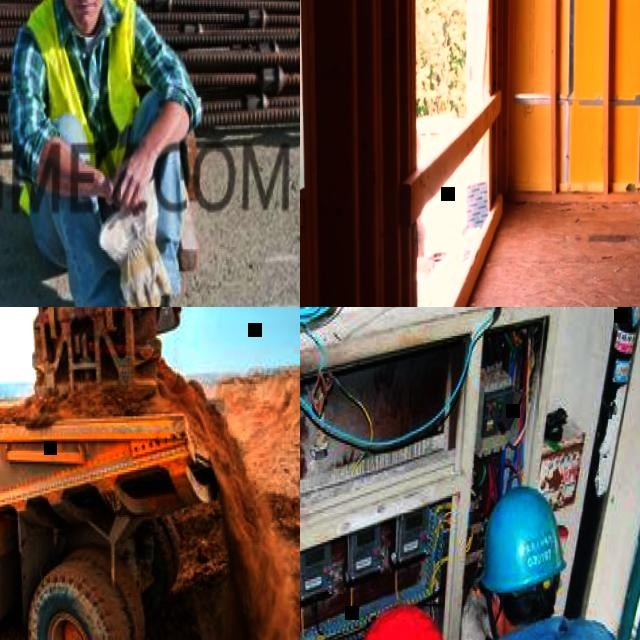Hardhat: (479, 488, 569, 596), (350, 606, 461, 640)
NO-Mask: (66, 0, 105, 31)
Person: (7, 0, 206, 307), (438, 486, 624, 640)
Safety Vest: (21, 0, 143, 218)
machinery: (0, 307, 196, 640), (0, 393, 258, 640)
